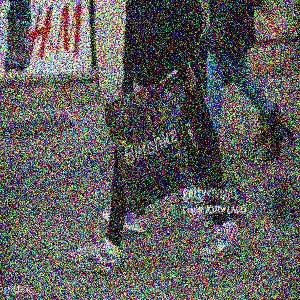bershka: (103, 86, 278, 199)
